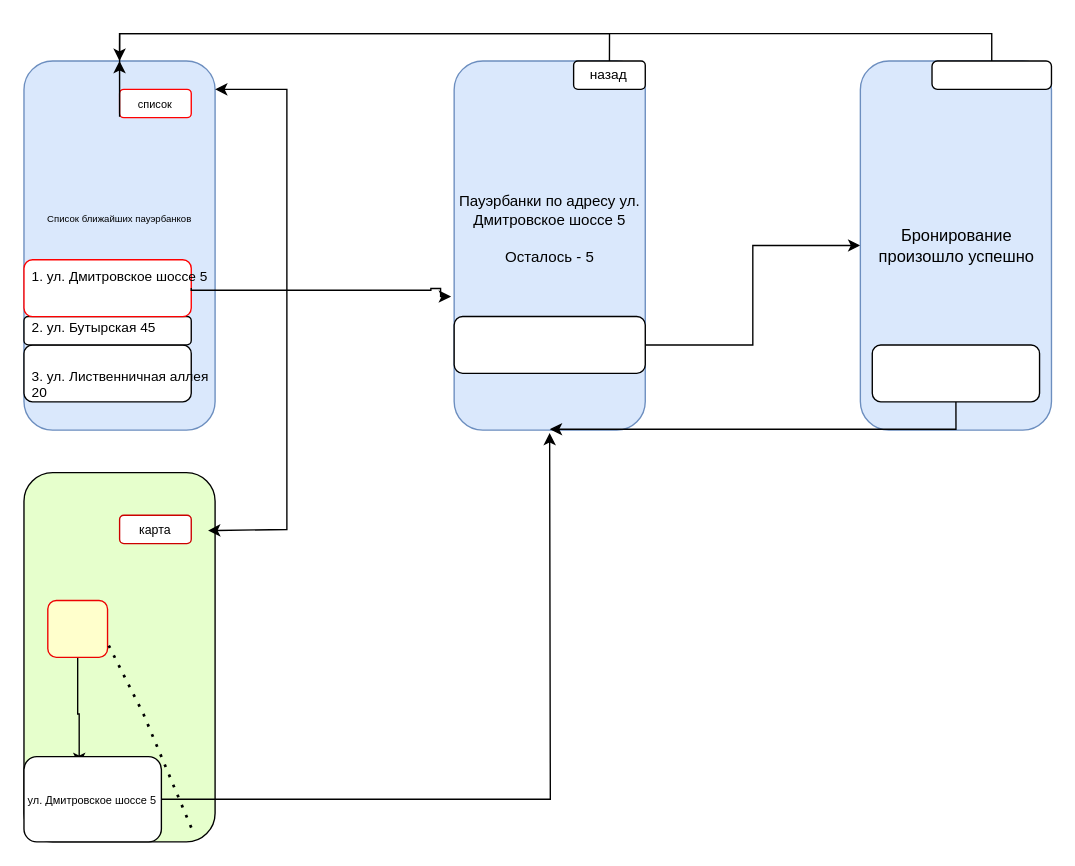
The diagram is 1075 pixels wide and 866 high, and some of its shapes have lost their labels. The centre of each missing label's shape, as x and y in pixels:
"в меню" goes at point 991,74.
"взять ещё" goes at point 955,373.
"Забронировать" goes at point 549,344.
